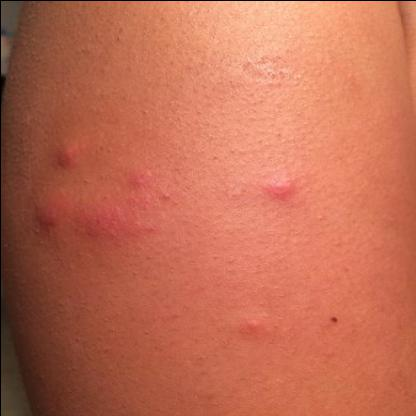Bed Bug: (78, 170, 184, 236), (256, 165, 300, 211), (49, 140, 89, 170), (31, 200, 63, 235), (230, 312, 268, 340)
